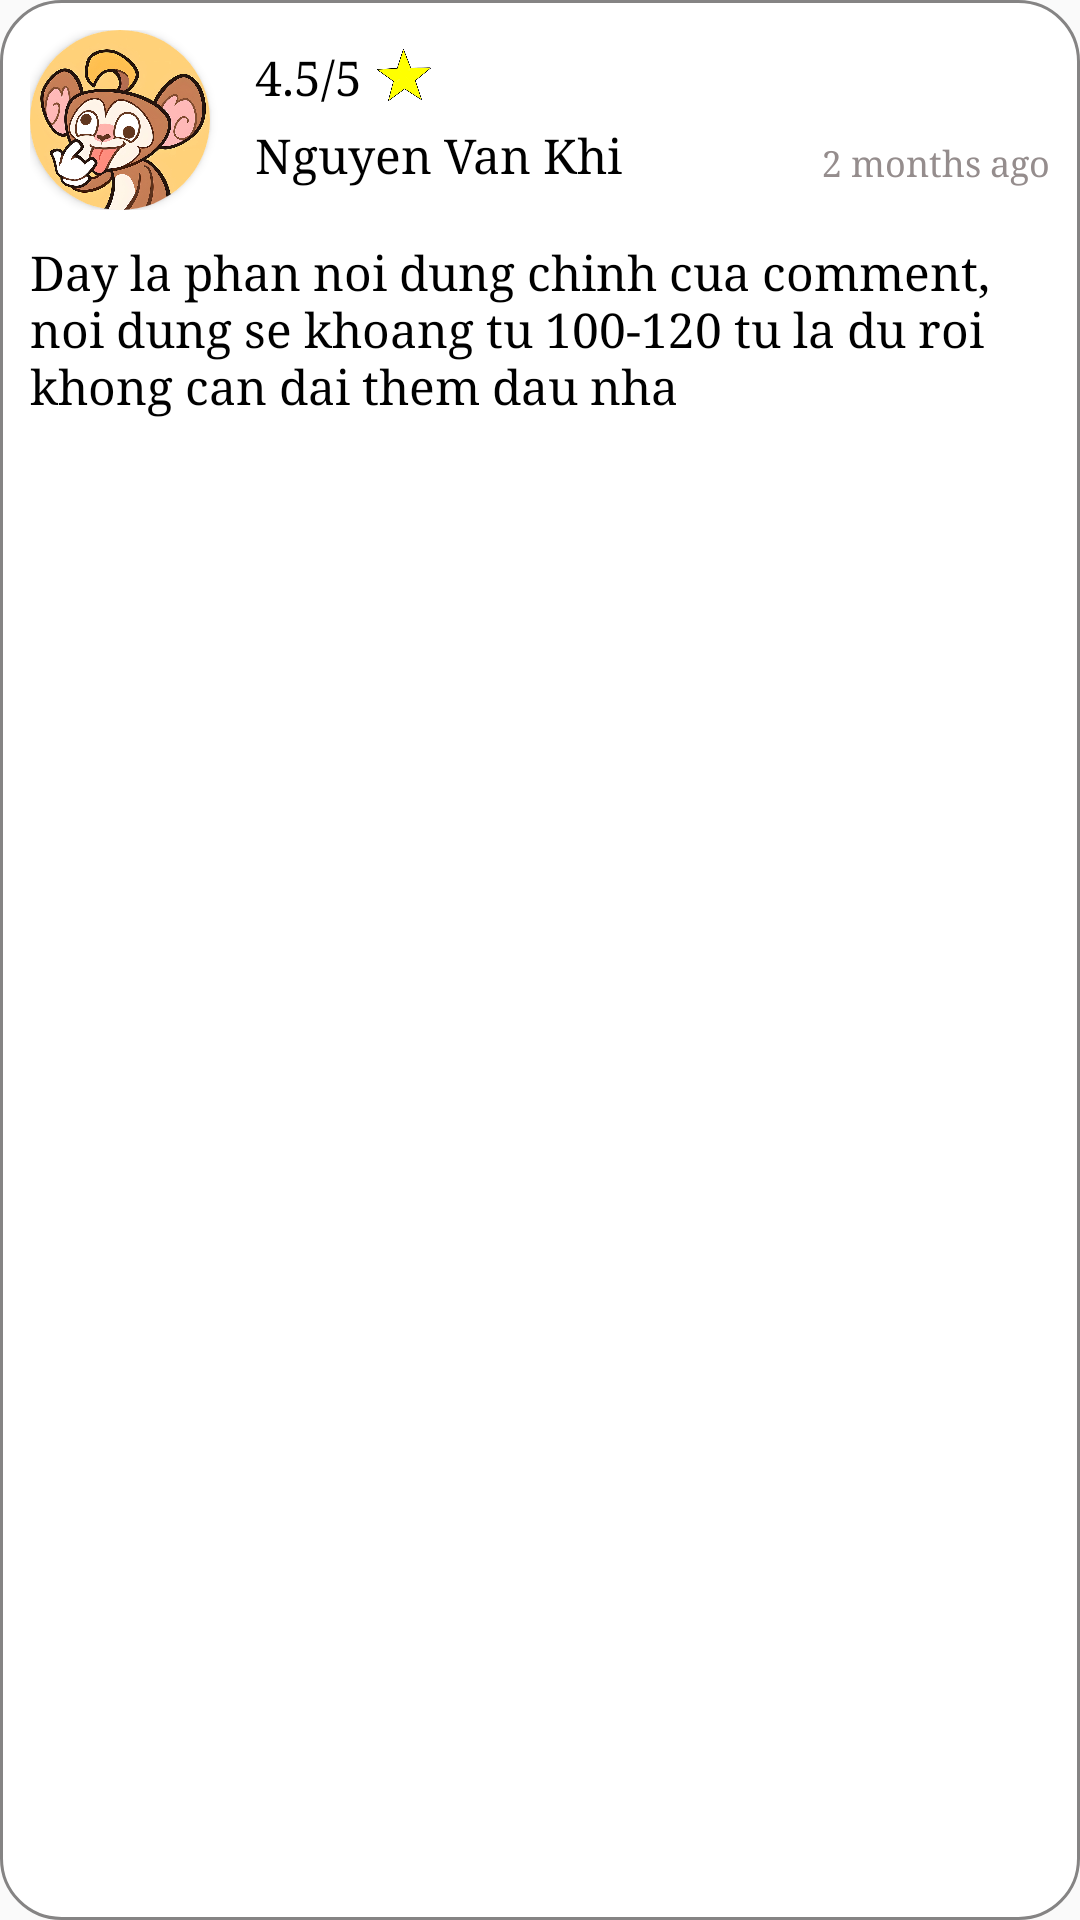

Screen size 1080x1920. Icon name, then its box in pixels as {"left": x1, "top": y1, "right": x2, "bottom": y2}:
monkey: {"left": 30, "top": 30, "right": 210, "bottom": 210}
star: {"left": 377, "top": 49, "right": 431, "bottom": 101}
